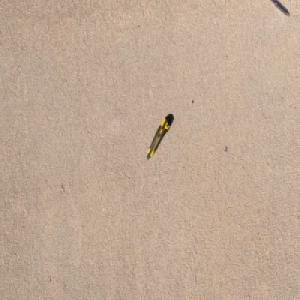Cutter: (145, 115, 171, 161)
